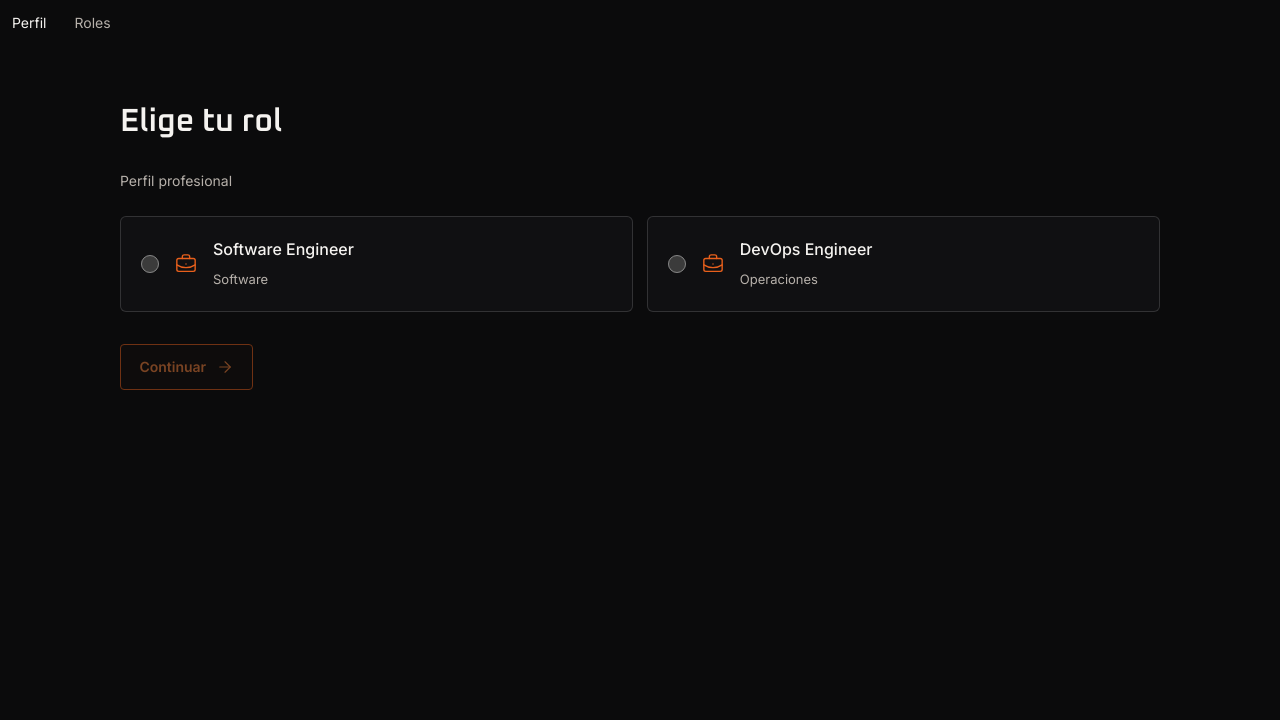
it: flujo de roles y placement › reinicia las respuestas si se elige otro rol
Click the radio button labelled "Software Engineer Software" at (150, 264), box [141,255,159,273]
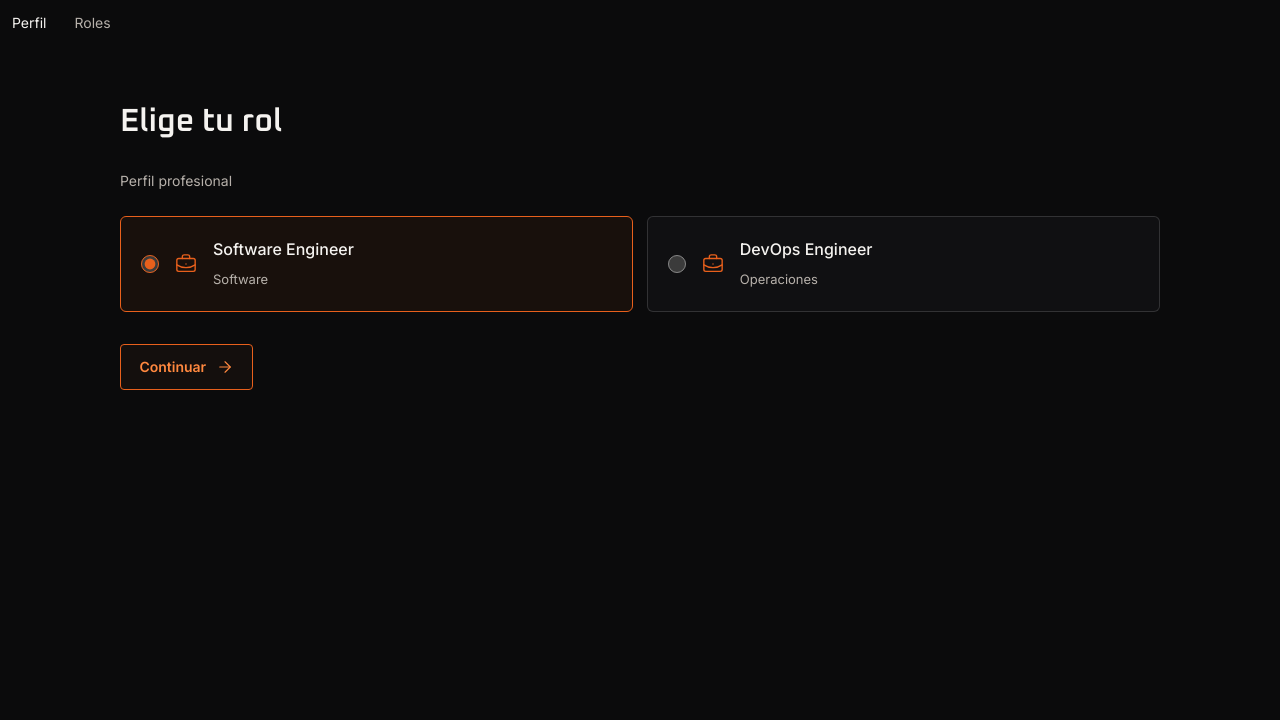
Click the button "Continuar" at (187, 367), box [120,344,253,390]
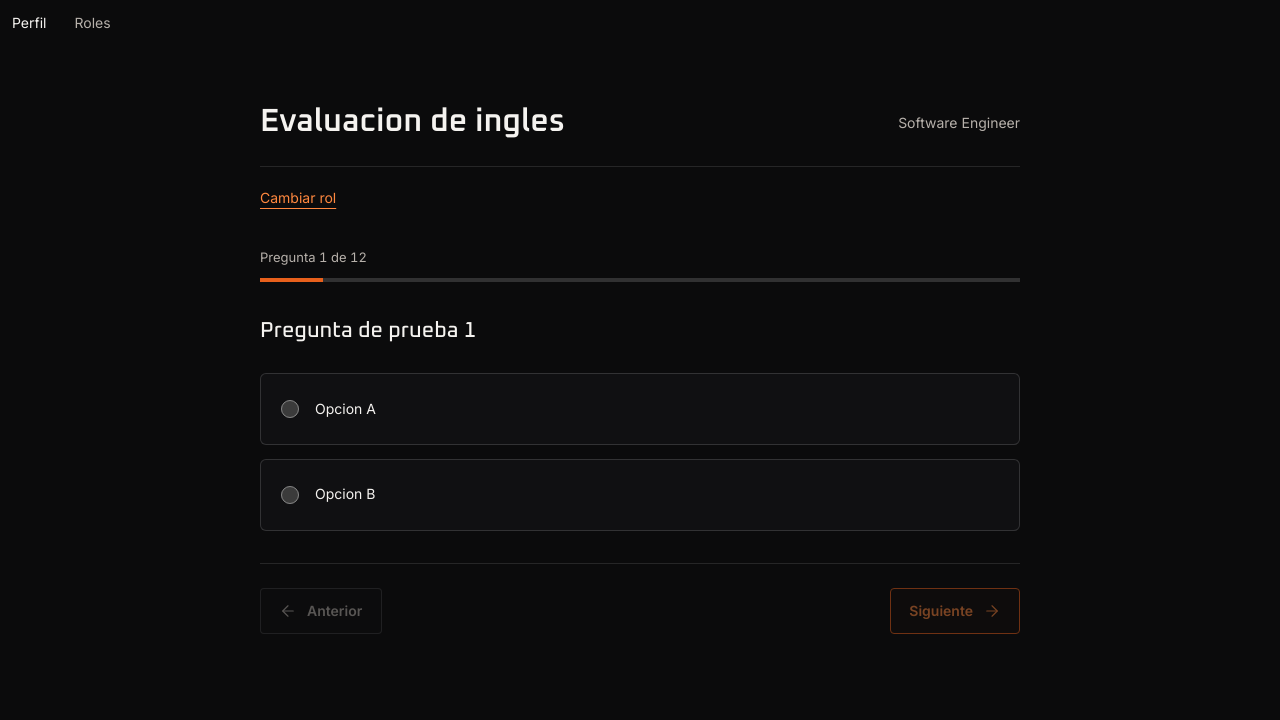
Now the element "Pregunta de prueba 1" is shown, box [260,314,1020,530]
Click the radio button labelled "Opcion A" at (290, 409), box [281,400,299,418]
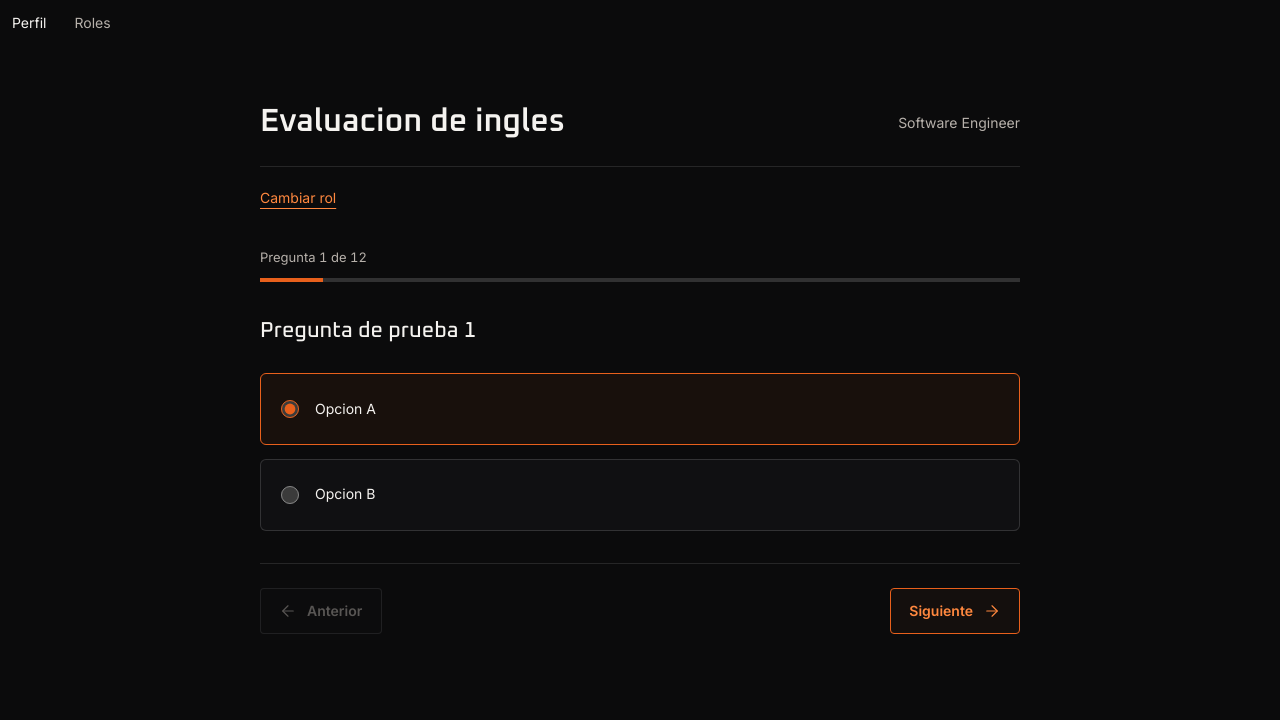
Click the link "Cambiar rol" at (298, 198), box [260,189,336,206]
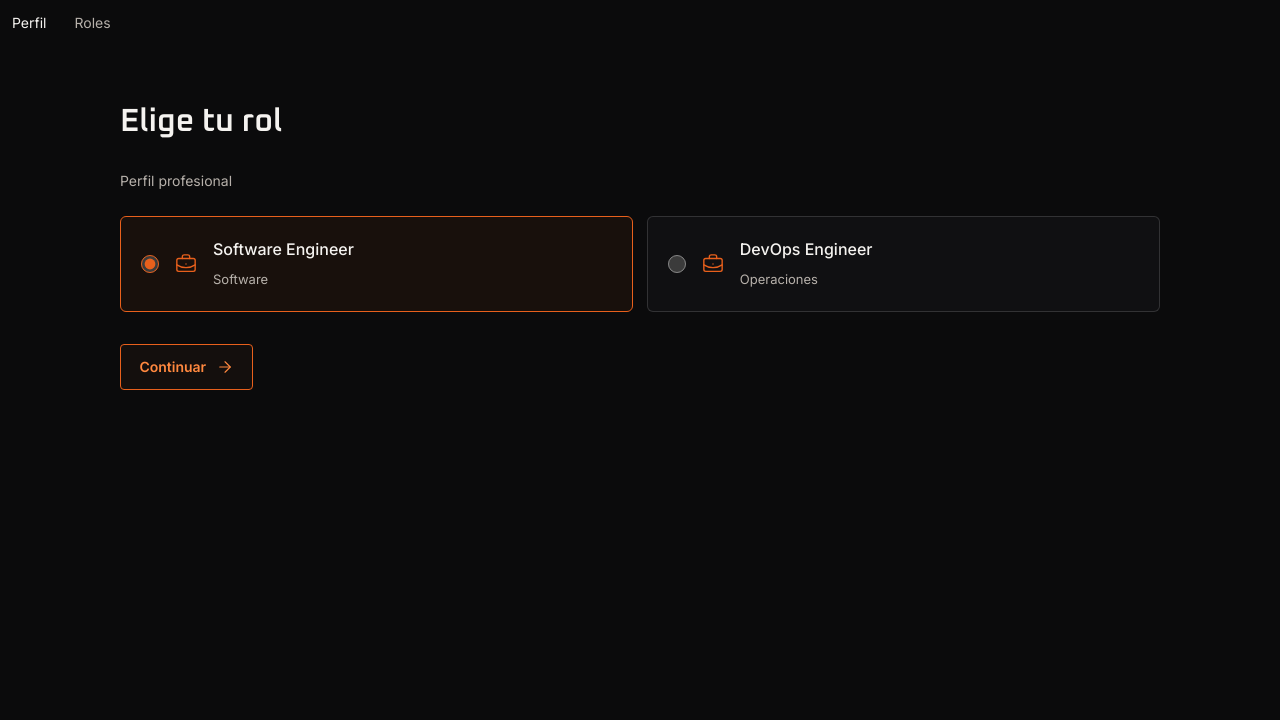
Click the radio button labelled "DevOps Engineer Operaciones" at (677, 264), box [668,255,686,273]
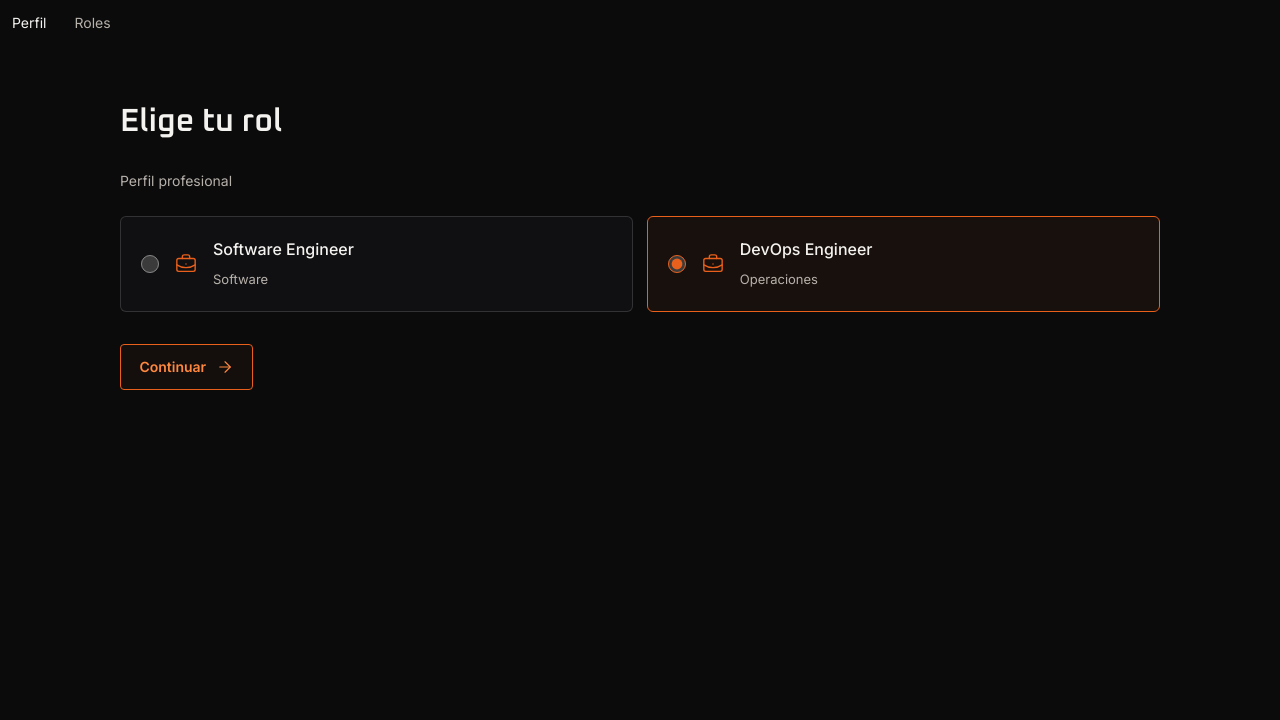
Click the button "Continuar" at (187, 367), box [120,344,253,390]
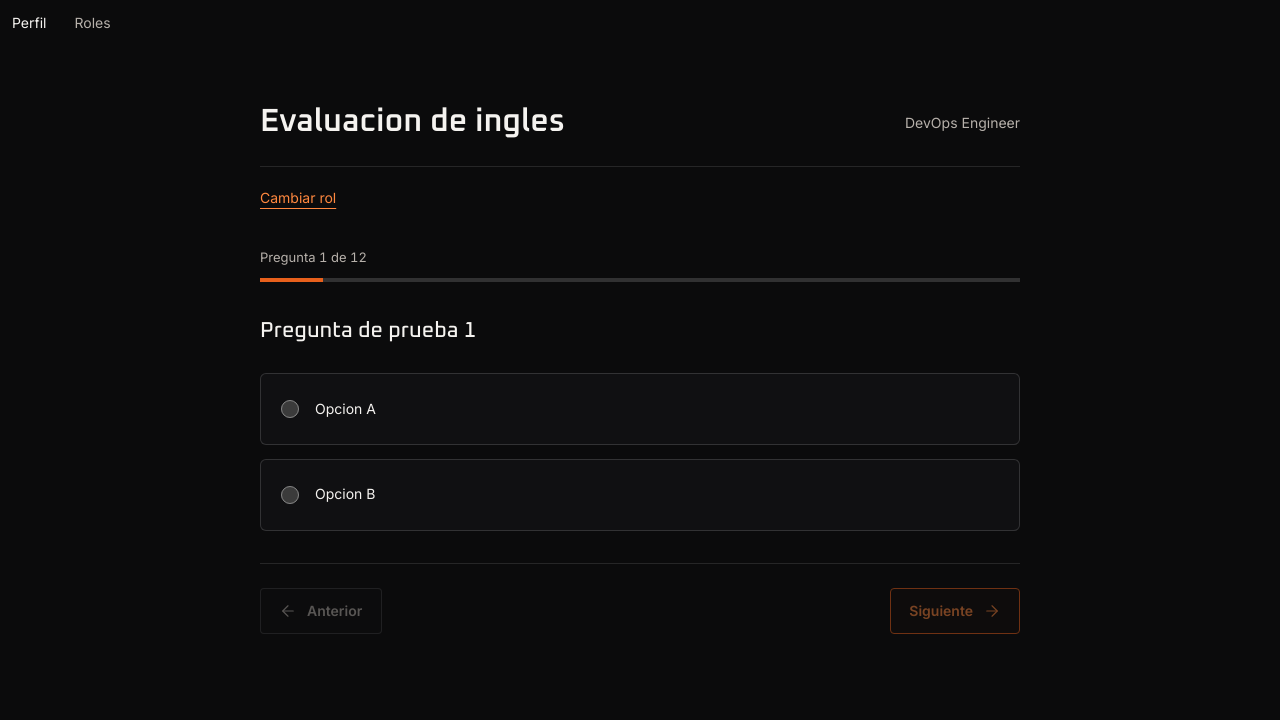
Now the element "Pregunta de prueba 1" is shown, box [260,314,1020,530]
Now the radio button labelled "Opcion A" is not checked, box [281,400,299,418]
